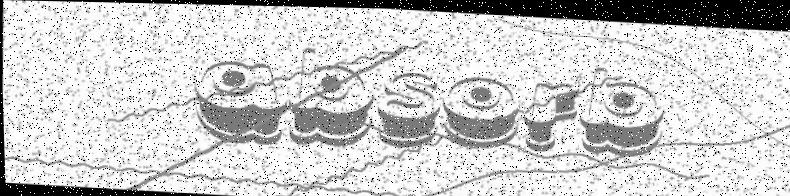a: (190, 55, 285, 146)
b: (285, 43, 377, 149), (576, 63, 666, 157)
o: (439, 71, 524, 150)
r: (520, 76, 581, 153)
s: (374, 66, 442, 150)
